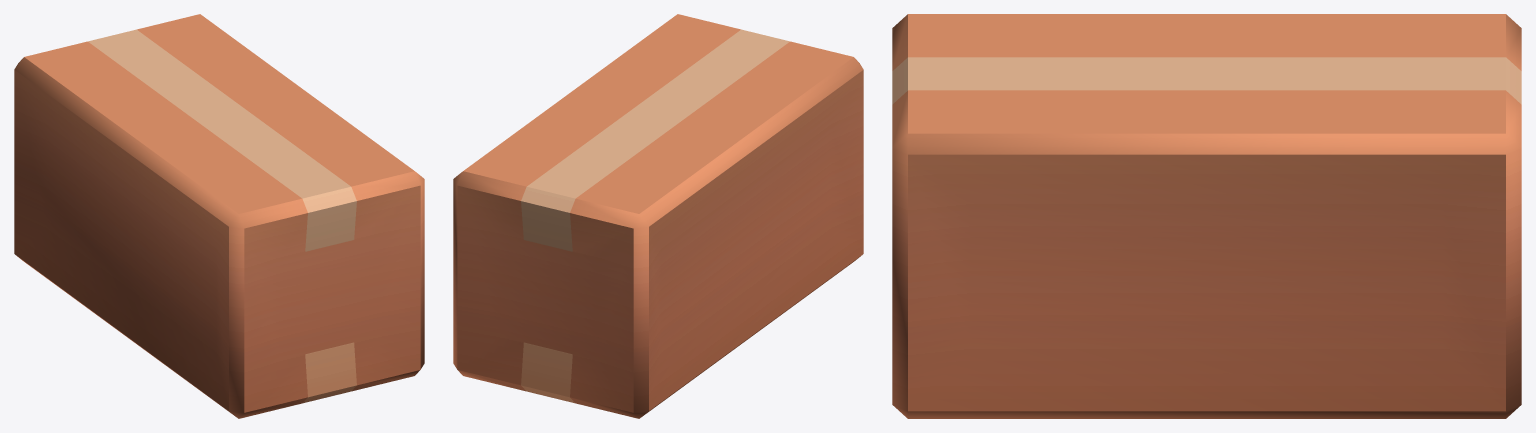
The model's file is k-survival-box-large.glb.
3 renders of one model, left to right at view 1: azimuth 30°, elevation 25°; view 2: azimuth 150°, elevation 25°; view 3: azimuth 270°, elevation 25°, orthographic. The views are drawn at different scales.
Visible parts, largest first — view 1: box-large; view 2: box-large; view 3: box-large.
Boxes of the visible parts, bbox=[...] form: box-large: bbox=[14, 14, 424, 418]; box-large: bbox=[453, 14, 863, 418]; box-large: bbox=[892, 14, 1521, 418].
Size of the model in its own units: 0.25 by 0.25 by 0.5.
1 material, 1 textured.
